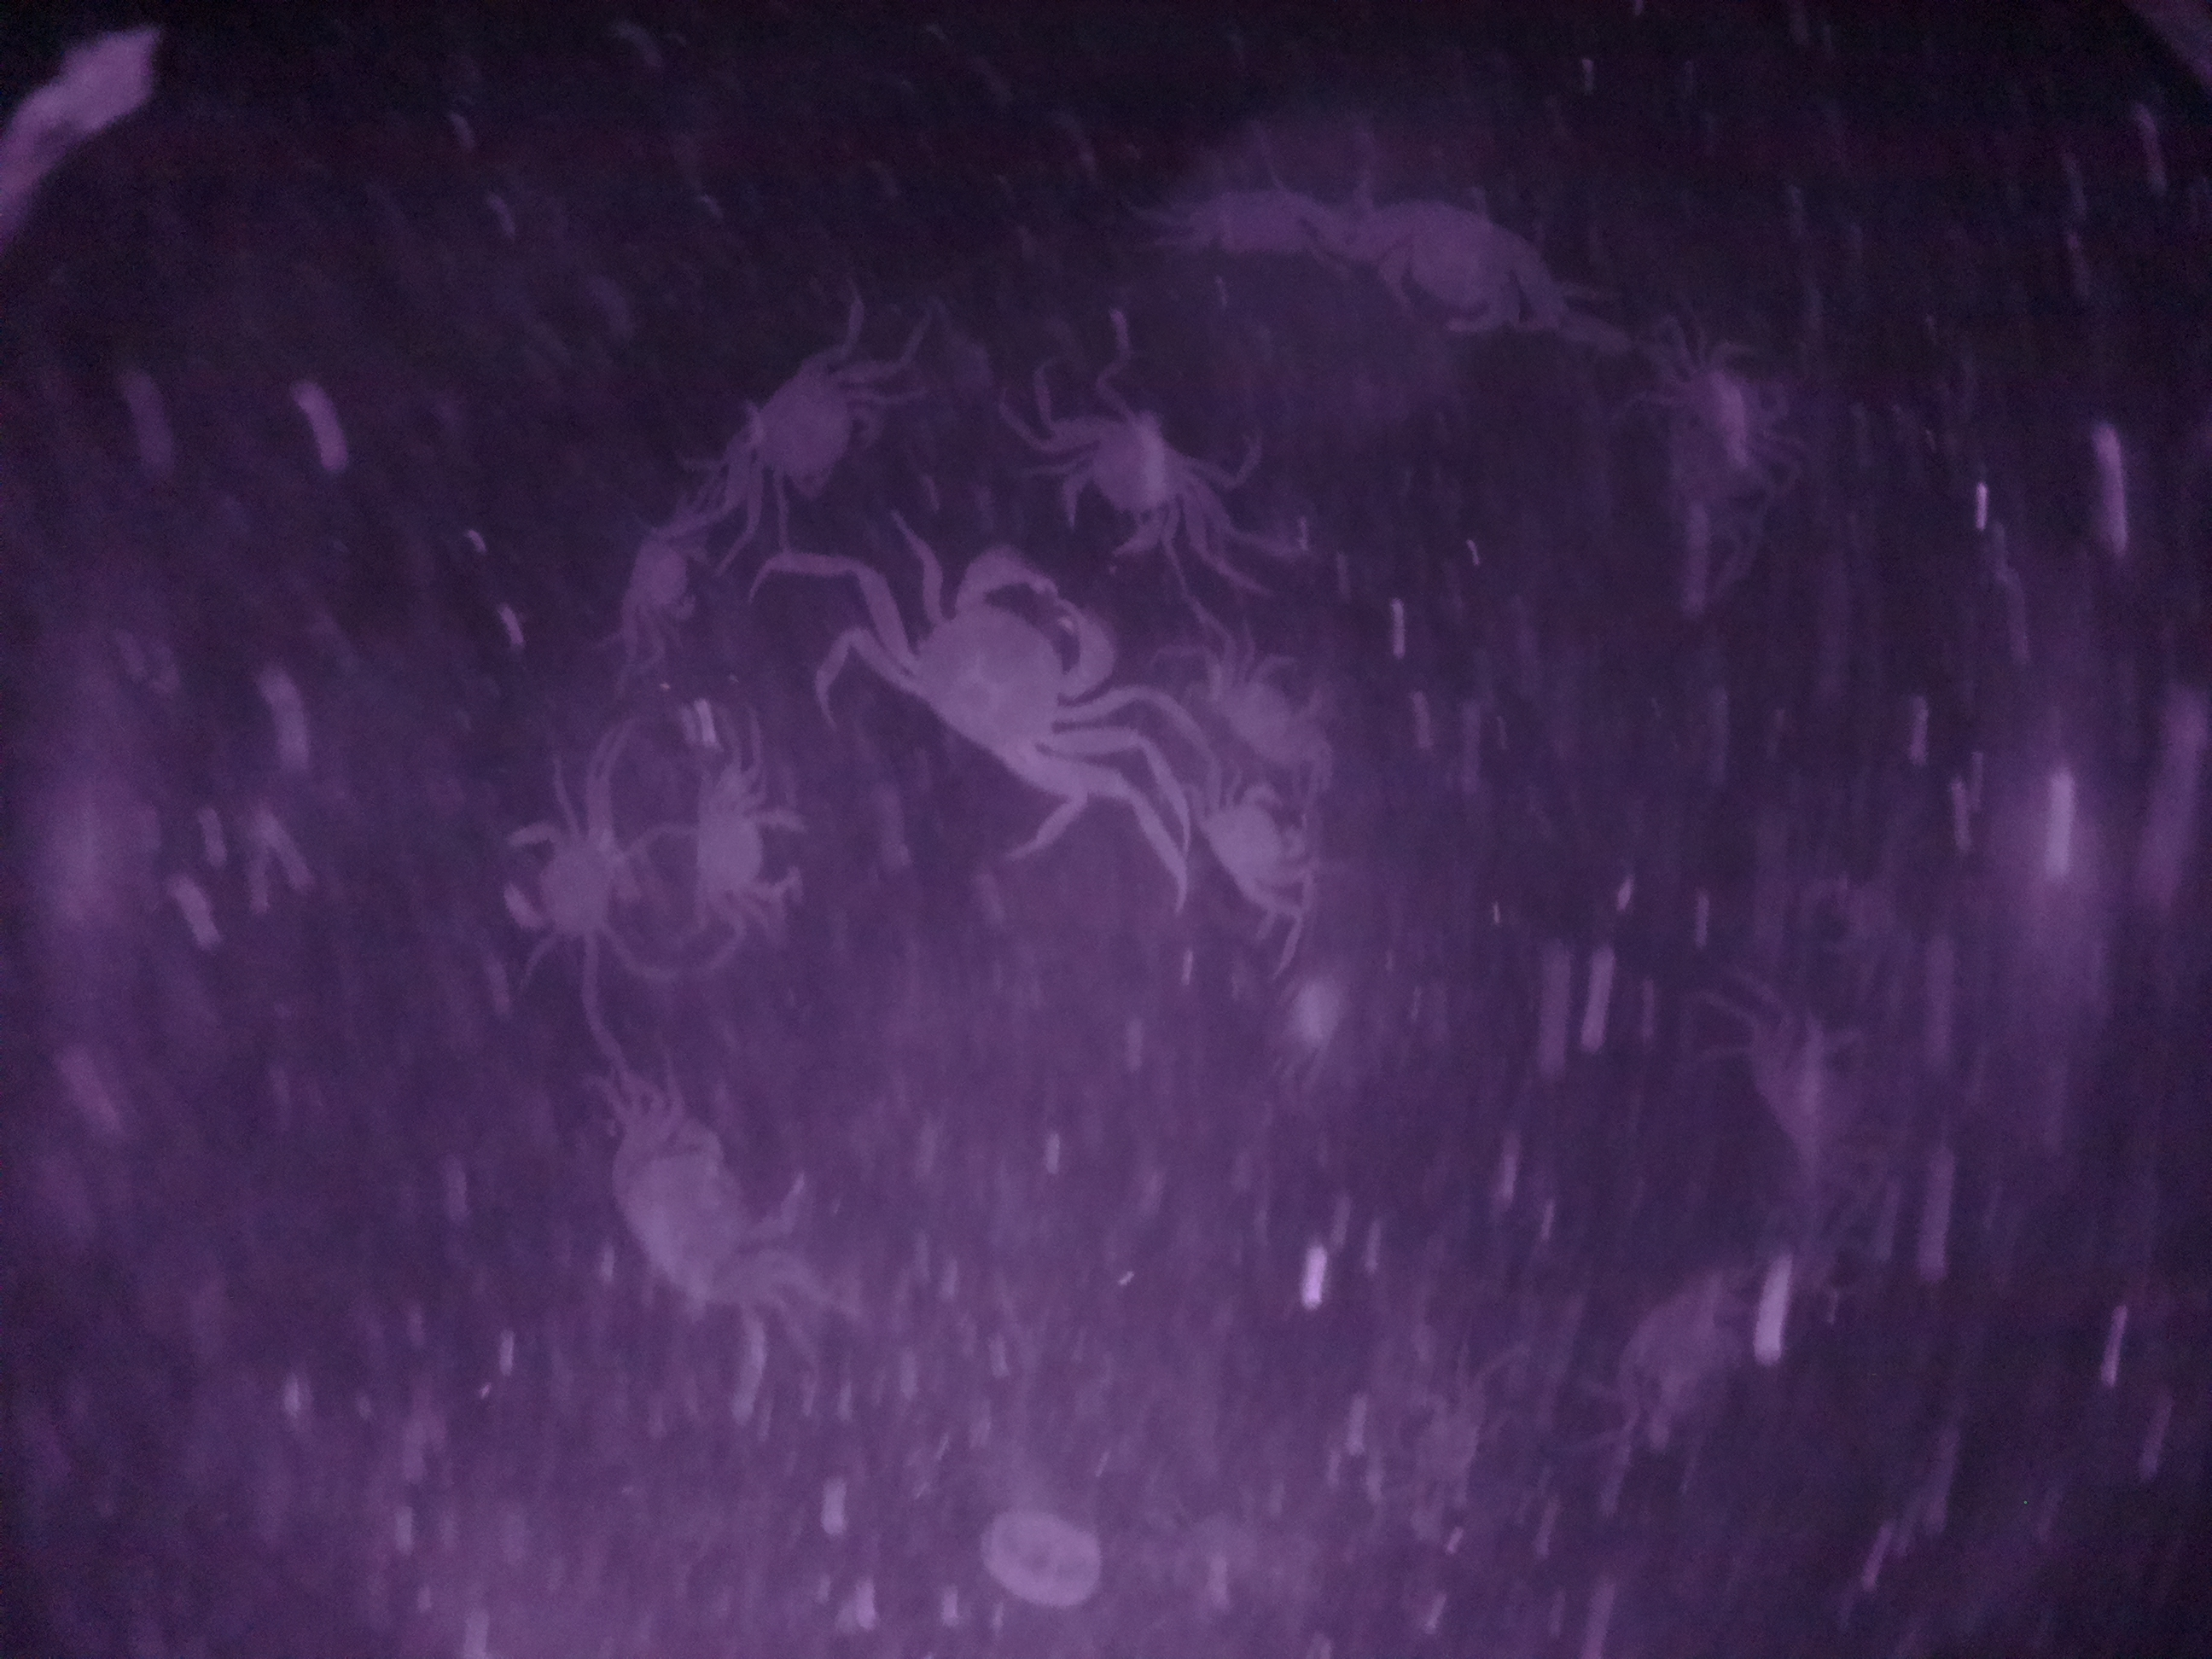Crab: (883, 528, 1146, 824), (1035, 378, 1235, 575), (719, 319, 894, 537), (496, 786, 650, 981), (1195, 767, 1329, 948), (685, 767, 817, 948), (617, 481, 721, 664)
